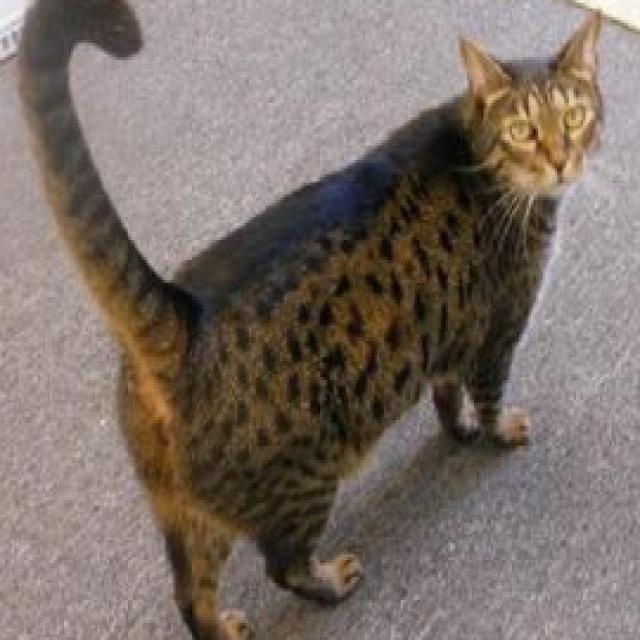Bengal: (12, 0, 611, 640)
